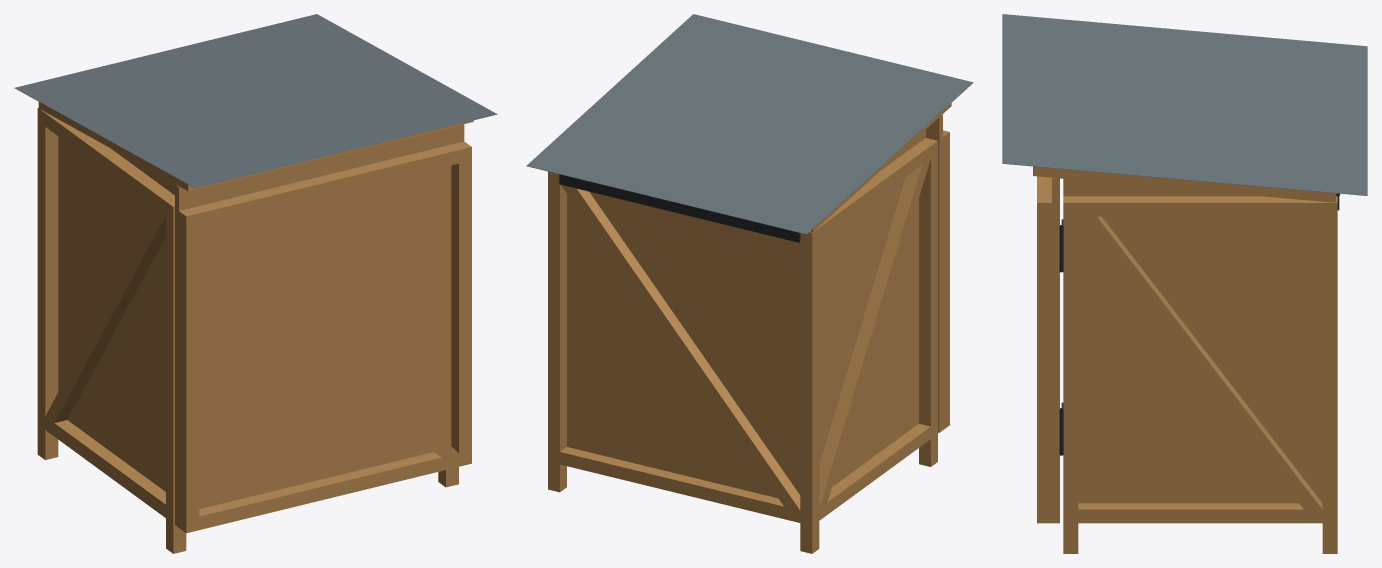
Rendered from dass-closed.glb.
3 views of the same model, side by side, from view 1: azimuth 30°, elevation 25°; view 2: azimuth 150°, elevation 25°; view 3: azimuth 270°, elevation 25° (orthographic). The views are drawn at different scales.
Visible parts, largest first — view 1: door_panel, roof, left_wall, back_post_left, door_left, door_right, door_top, door_brace, door_bottom, left_brace, front_post_left, left_bottom (+3 smaller); view 2: roof, back_wall, left_wall, back_brace, left_brace, back_post_left, back_post_right, front_post_left, back_bottom, left_bottom, roof_hinge_fixed, left_top (+3 smaller); view 3: right_wall, roof, right_brace, front_post_right, back_post_right, right_bottom, right_top, door_right, roof_right, door_panel.
Part boxes in pixels (x1,y1,x2,y2): door_panel: (175, 124, 464, 527); roof: (14, 14, 497, 188); left_wall: (58, 136, 174, 491); back_post_left: (37, 107, 58, 459); door_left: (179, 208, 199, 533); door_right: (451, 141, 471, 466); door_top: (192, 144, 458, 226); door_brace: (199, 223, 458, 457); door_bottom: (199, 452, 458, 529); left_brace: (45, 208, 165, 422); front_post_left: (166, 199, 186, 553); left_bottom: (45, 416, 165, 517); roof: (526, 14, 973, 234); back_wall: (573, 191, 800, 498); left_wall: (819, 130, 925, 486); back_brace: (561, 185, 800, 510); left_brace: (819, 158, 930, 507); back_post_left: (800, 227, 819, 553); back_post_right: (548, 171, 566, 492); front_post_left: (919, 138, 937, 466); back_bottom: (560, 447, 800, 522); left_bottom: (819, 423, 930, 520); roof_hinge_fixed: (559, 174, 800, 242); left_top: (818, 143, 930, 239); right_wall: (1063, 178, 1322, 503); roof: (1002, 14, 1367, 195); right_brace: (1079, 216, 1322, 509); front_post_right: (1063, 196, 1078, 553); back_post_right: (1322, 196, 1337, 553); right_bottom: (1078, 503, 1322, 523); right_top: (1078, 196, 1322, 216); door_right: (1037, 196, 1051, 523); roof_right: (1048, 168, 1321, 201); door_panel: (1052, 177, 1059, 523).
Size of the model in its own units: 1050 by 1293 by 1085.
